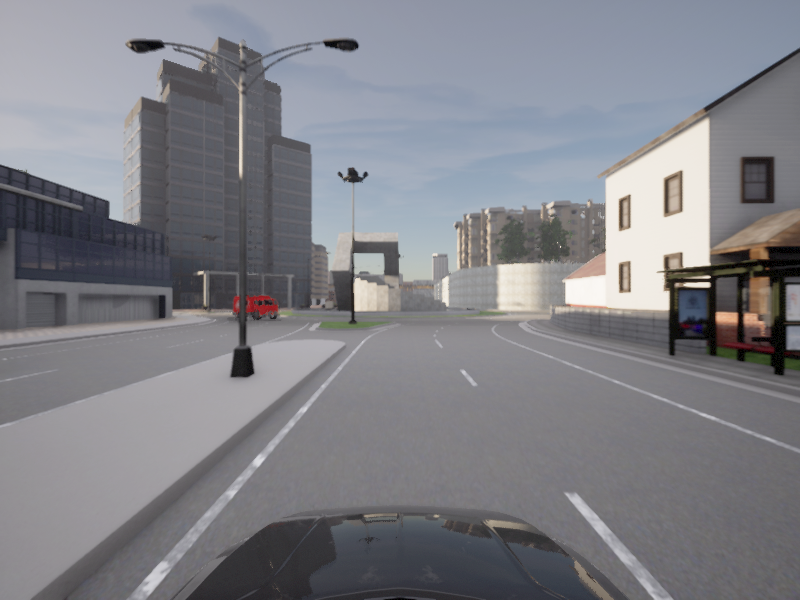vehicle: (230, 294, 283, 320)
